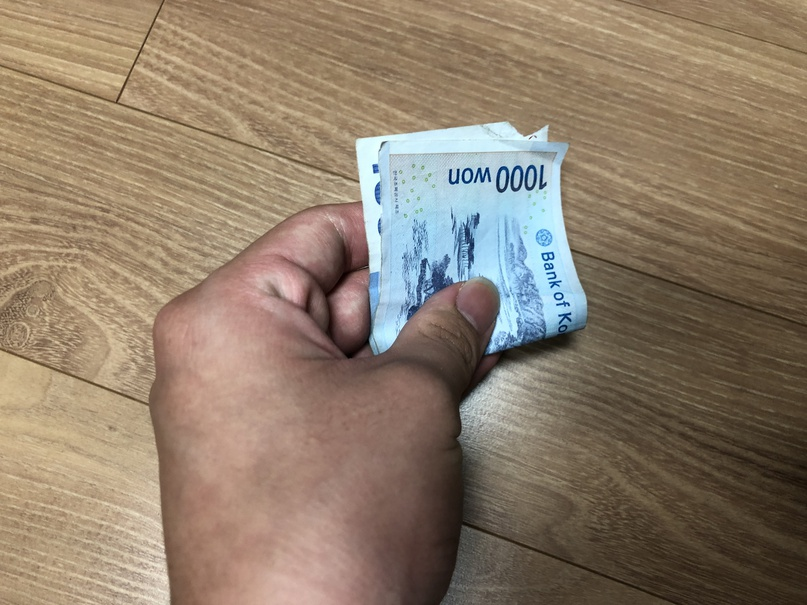1000won: (355, 122, 586, 361)
